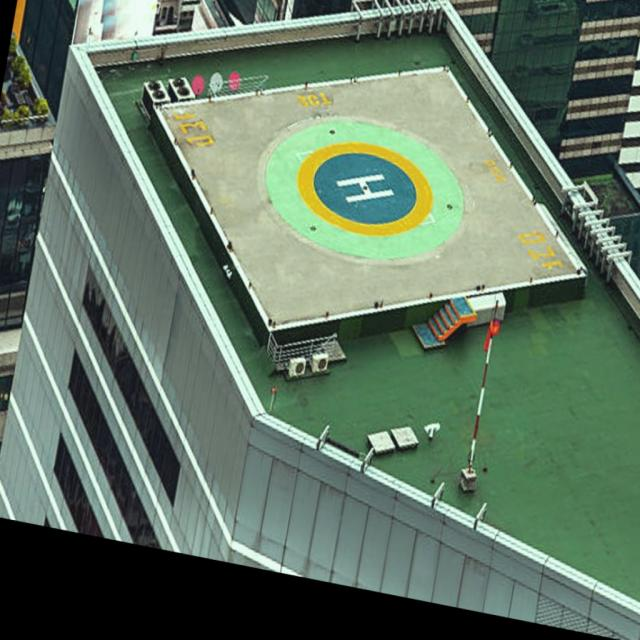helipad: (292, 138, 440, 238)
